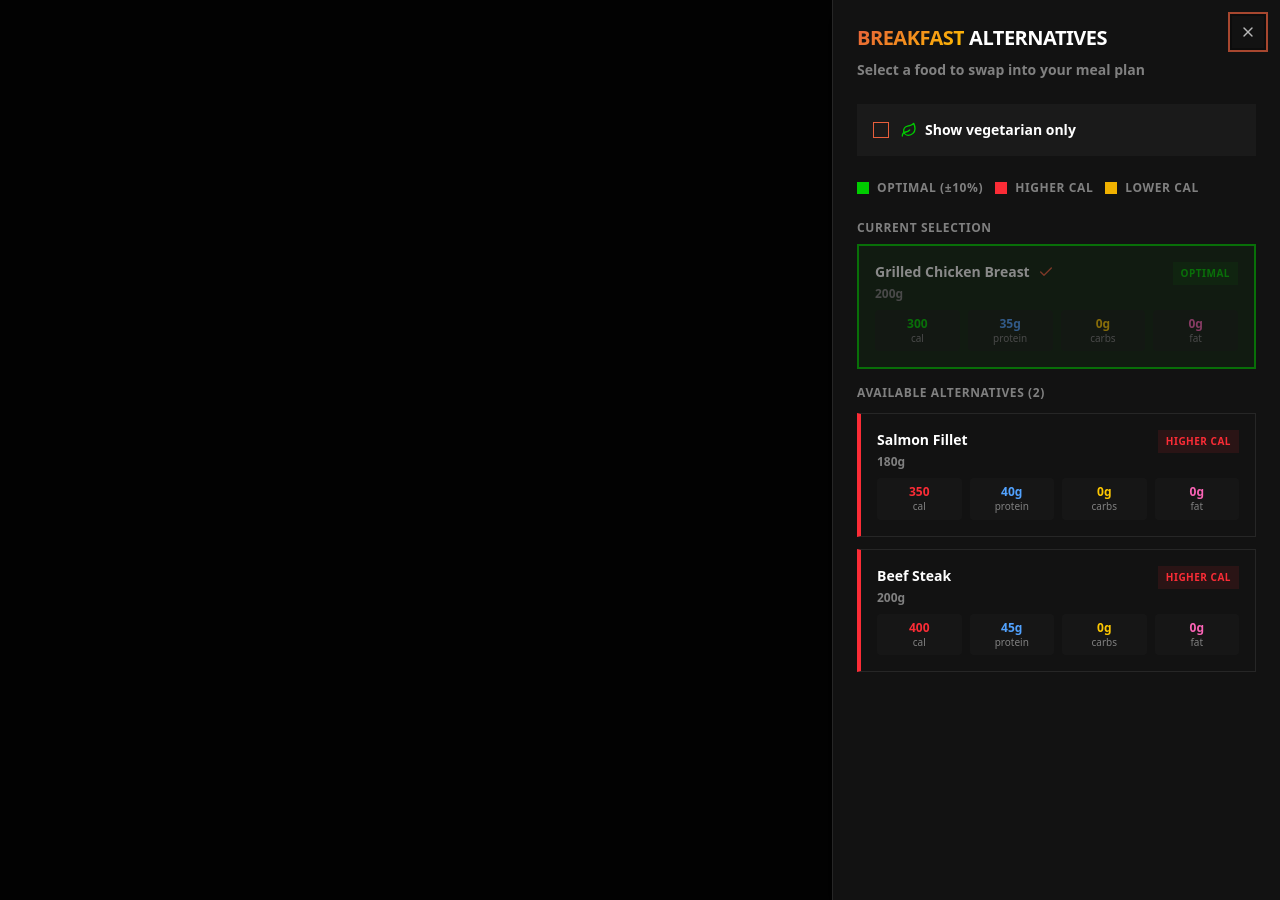
Test: FoodAlternativesDrawer Component › shows empty state for vegetarian filter when no vegetarian alternatives
# Click the vegetarian filter
Click the checkbox.
click(881, 130)  # box [873,122,889,138]
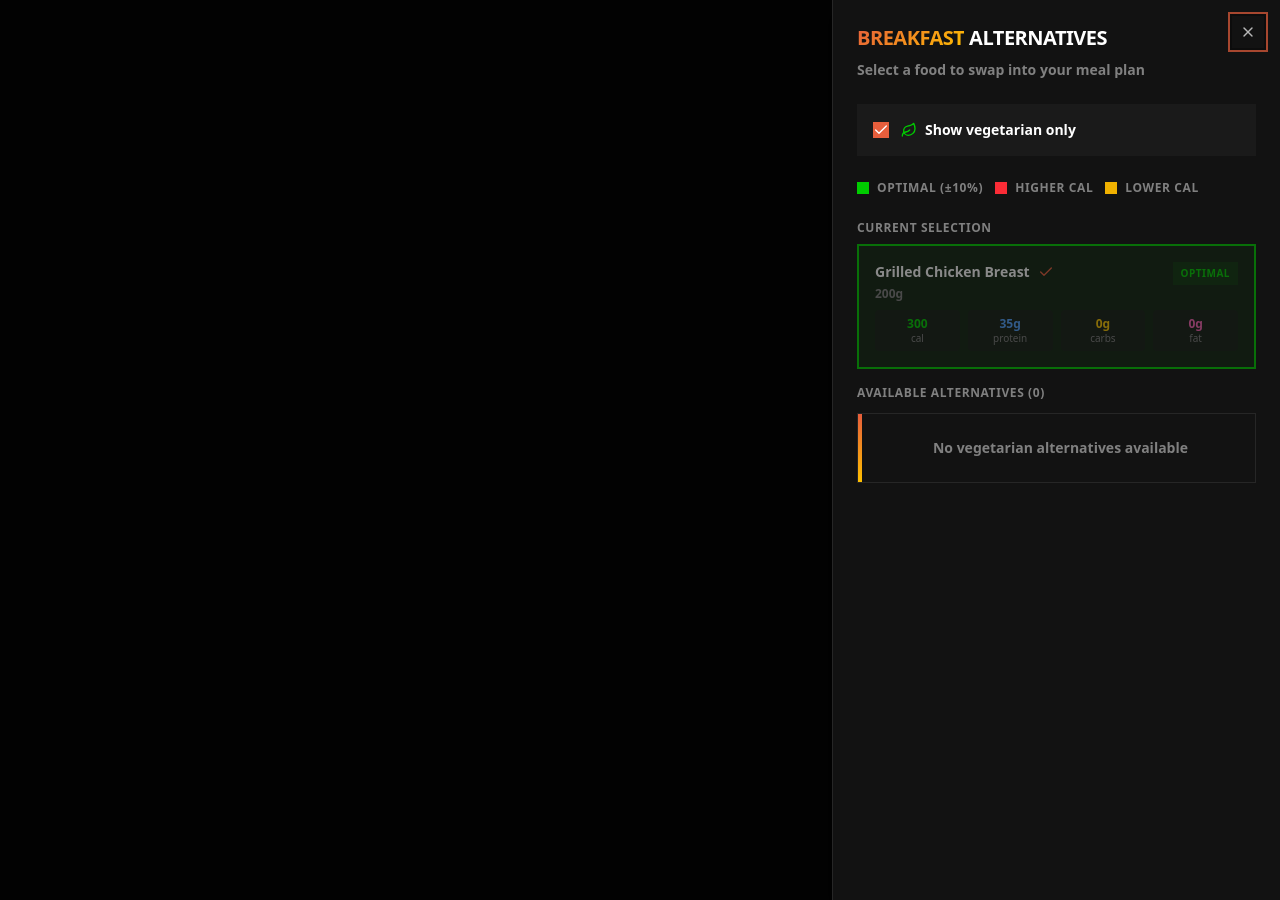
Expected: the text "No vegetarian alternatives available" is shown, [933,438,1188,457]
